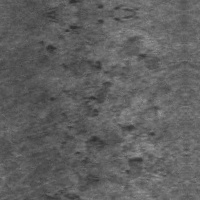rolled-in_scale: (48, 56, 118, 199), (96, 103, 157, 180)
